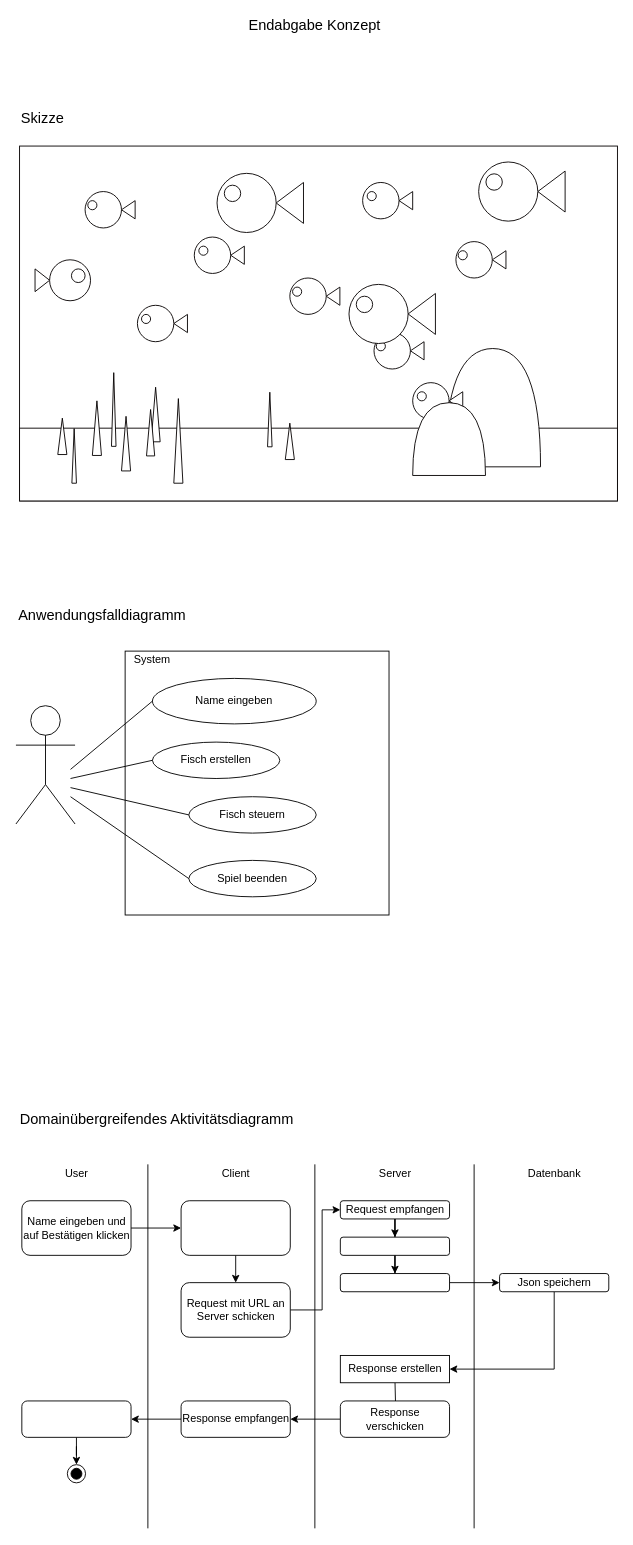
This 633x1545 diagram has some shape labels left out. The shapes that lost their labels are listed below. From the top down, each one's centre as x and y in pixels, then its label:
the point at 45,764: Actor
the point at 235,1227: URL-String mit Daten erstellen
the point at 394,1245: Daten verarbeiten
the point at 394,1282: Json erstellen
the point at 76,1418: Highscore ansehen
